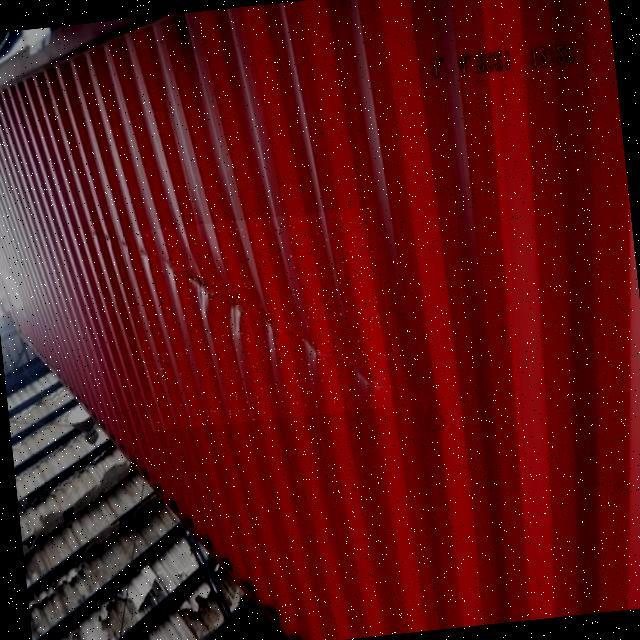Dent: (130, 206, 393, 431)
